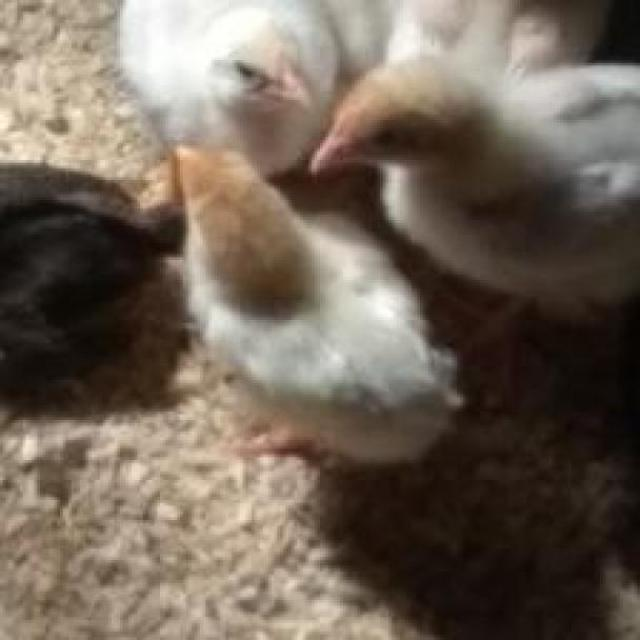Chicken: (165, 142, 516, 478), (320, 56, 640, 309), (119, 0, 354, 176)
